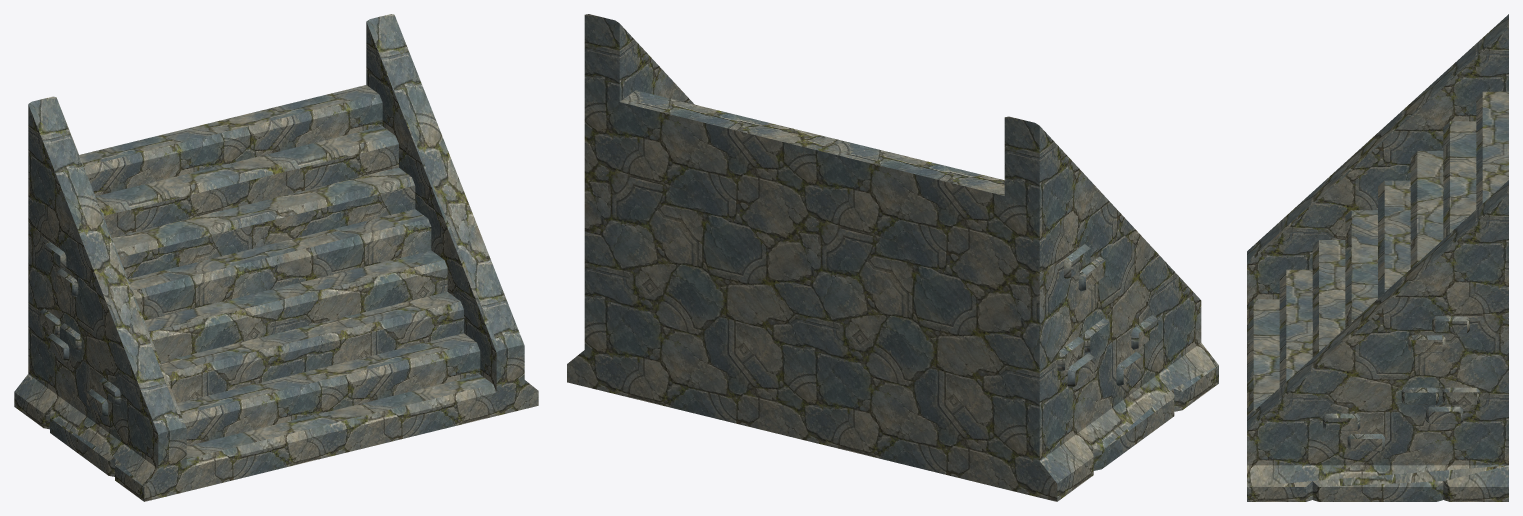
Rendered from stairs_wide_finished.glb.
The picture shows the model from 3 angles, left to right: view 1: azimuth 30°, elevation 25°; view 2: azimuth 150°, elevation 25°; view 3: azimuth 270°, elevation 25°; orthographic projection. The views are drawn at different scales.
Parts seen in each view (by area): view 1: stairs_wide; view 2: stairs_wide; view 3: stairs_wide.
Boxes of the visible parts, <box> form: stairs_wide: <box>14,14,538,501</box>; stairs_wide: <box>567,14,1218,501</box>; stairs_wide: <box>1247,14,1508,501</box>.
Bounding box in the file's own units: 7 × 5.1 × 4.
Materials: 1 (1 with a texture image).
